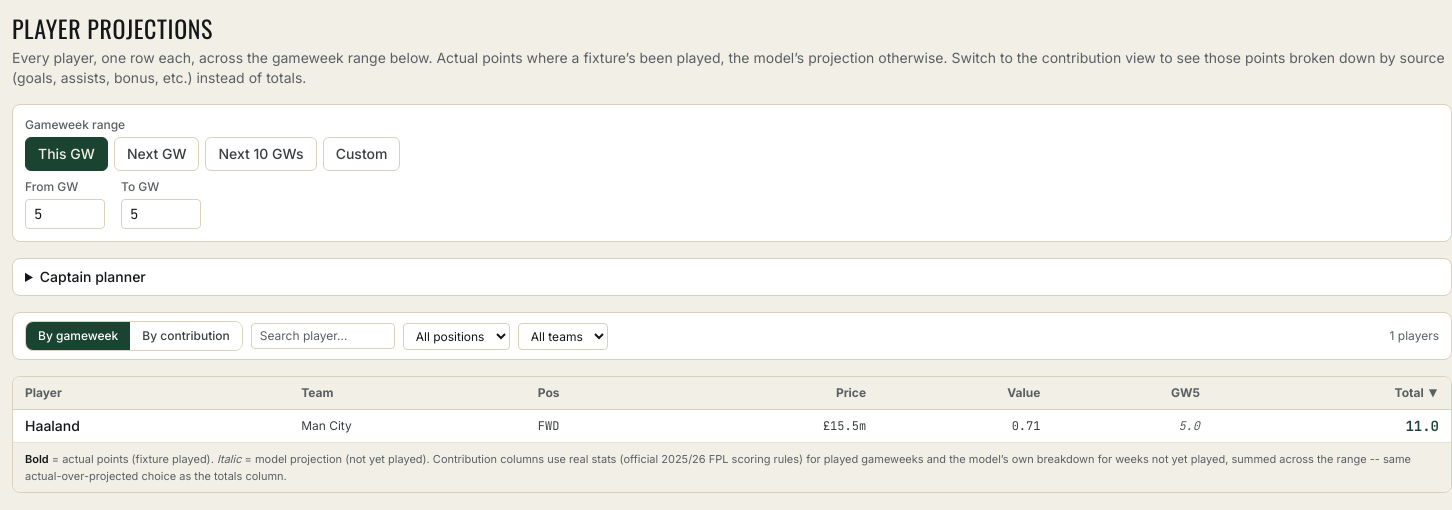
Test: PlayerProjectionsTablePage › switches to the contribution view and shows summed xPts components instead of per-gameweek totals
Expected: the text "Haaland" is shown, [13,410,293,442]
Click the button "By contribution": point(186, 336) [130,322,242,350]
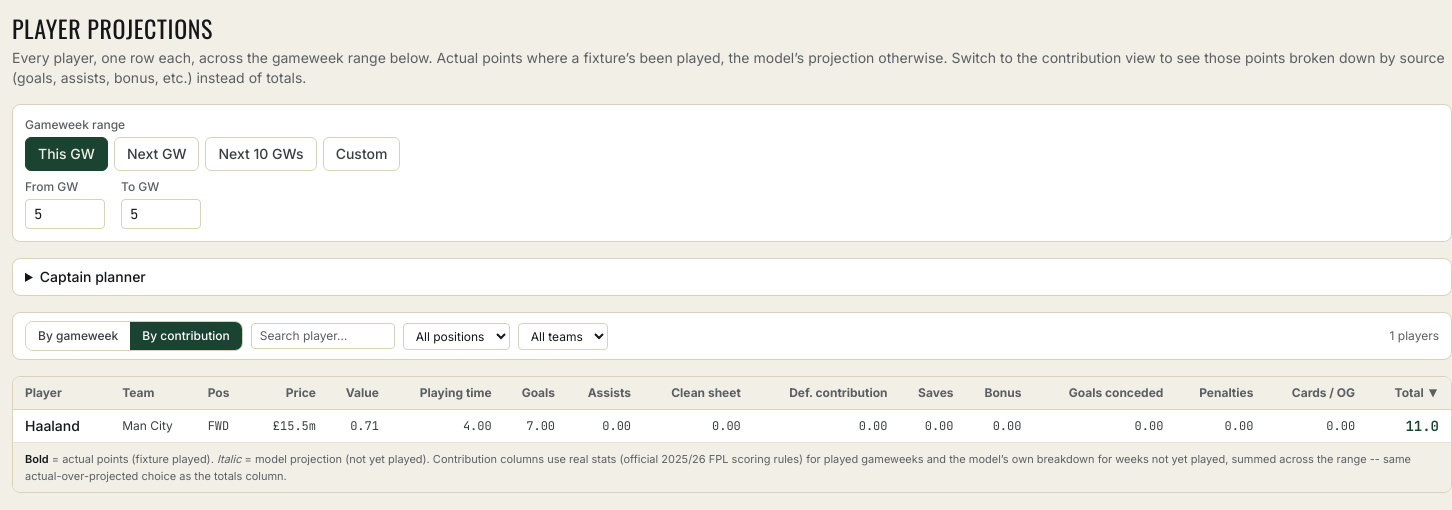
Expected: the text "7.00" is shown, [500,410,563,442]
Expected: the text "4.00" is shown, [387,410,500,442]
